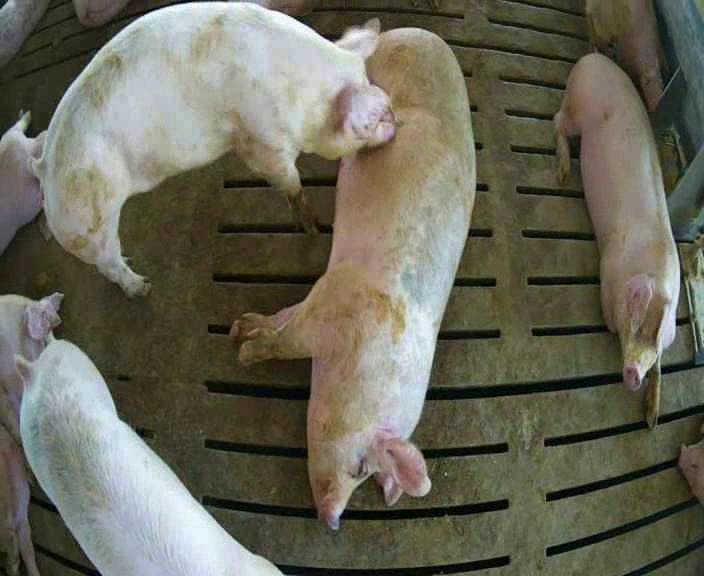pig: (231, 29, 475, 529), (33, 3, 394, 294), (18, 340, 280, 573), (555, 53, 679, 426), (586, 1, 663, 111)
